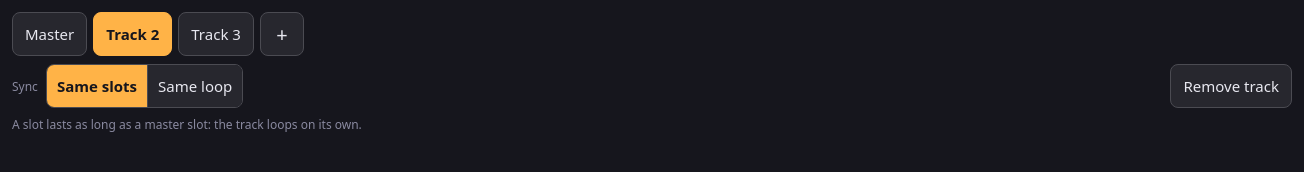
Test: TrackTabs › forgets the first press when another tab is selected
This screenshot has width=1304, height=172.
What coordinates should you click on to do the following:
click the button "Remove track"
I would click on:
 (1231, 86)
Its box is [1170,64,1292,108].
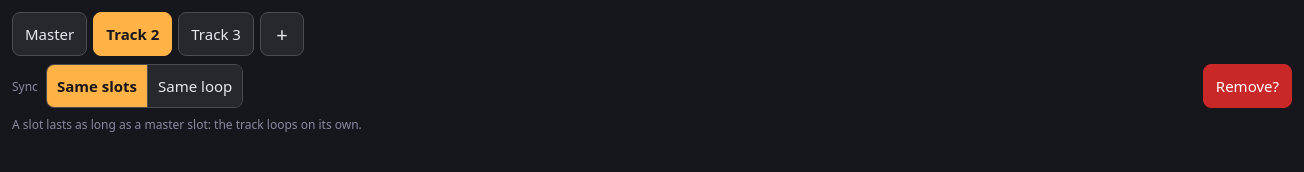
What coordinates should you click on to do the following:
click the tab "Track 3"
I would click on:
 (216, 34)
Its box is [178,12,254,56].
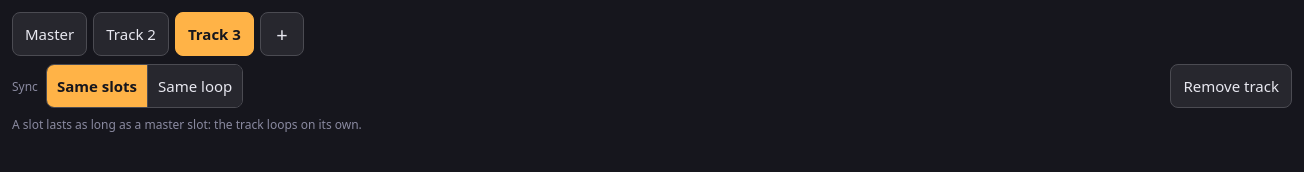
Expected: the button "Remove?" is not shown
Now the button "Remove track" is shown, box [1170,64,1292,108]
